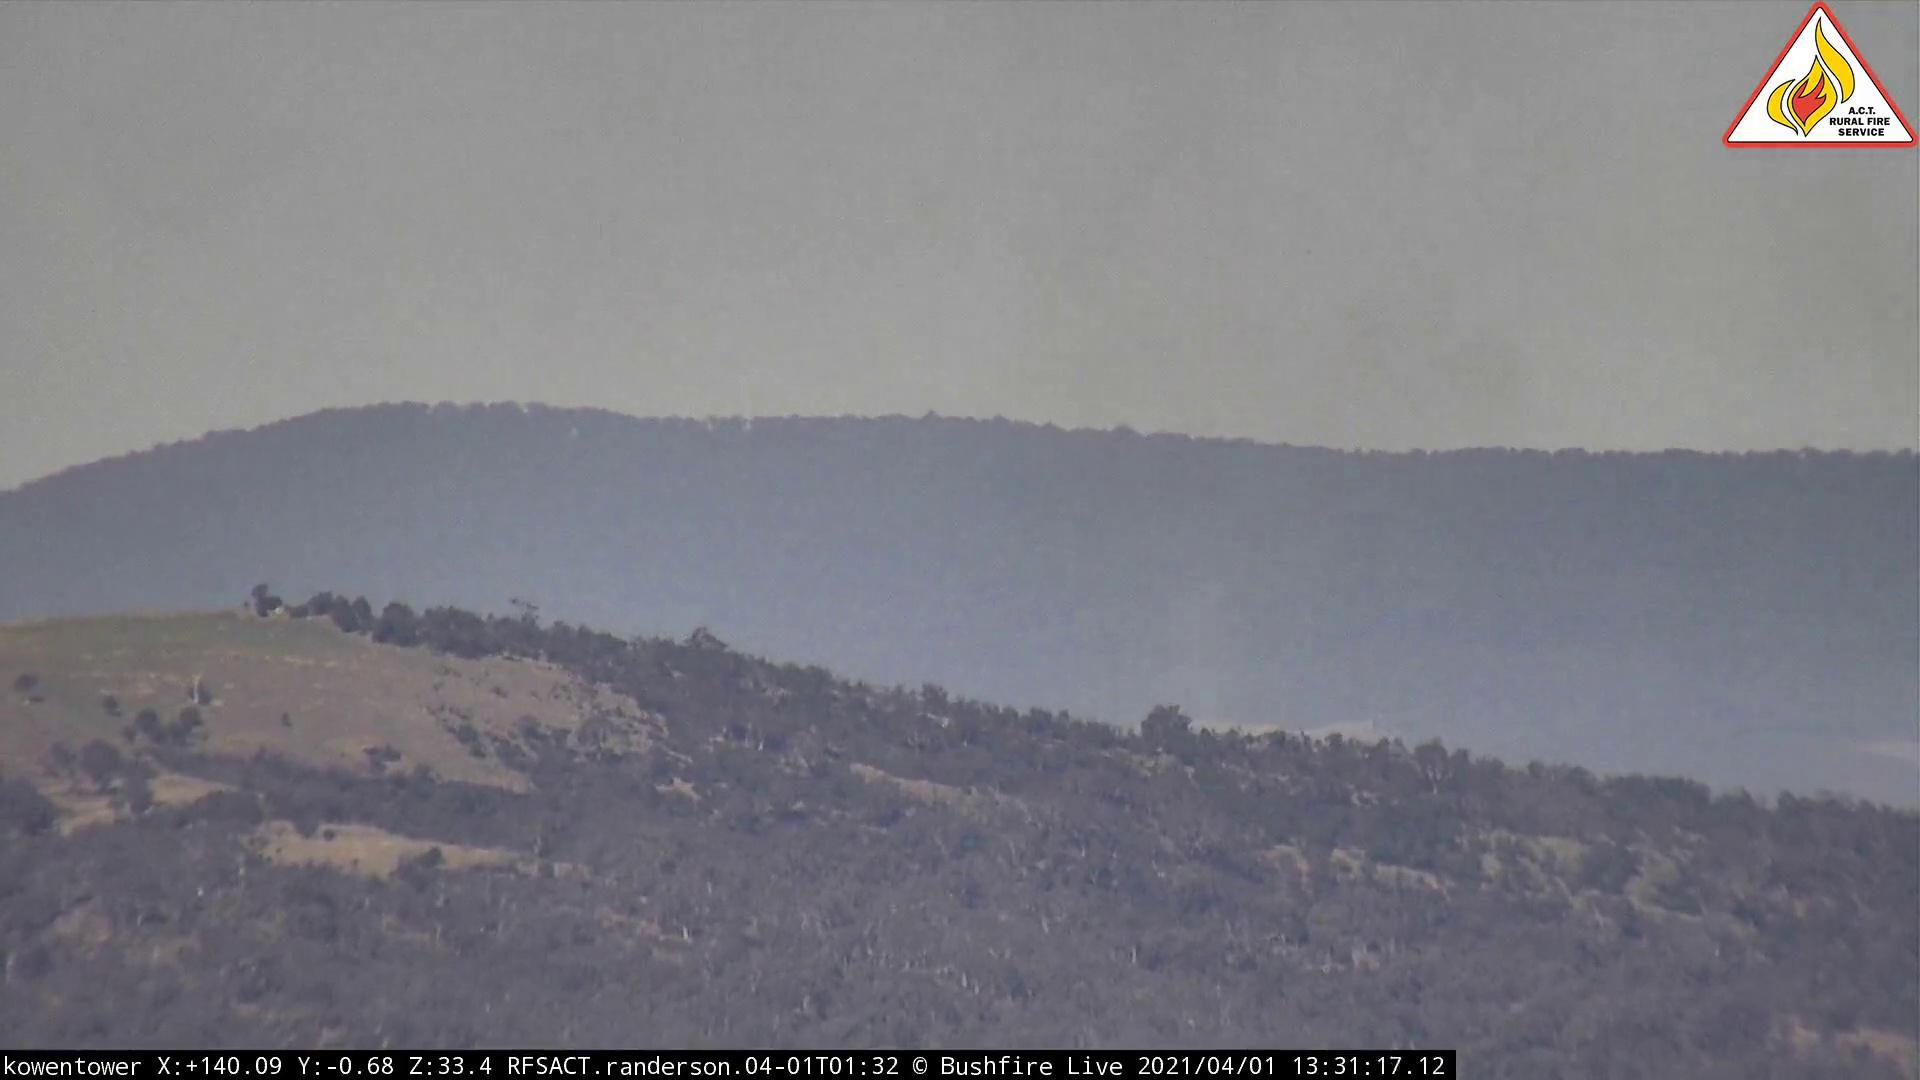Smoke: (1294, 178, 1920, 752)
